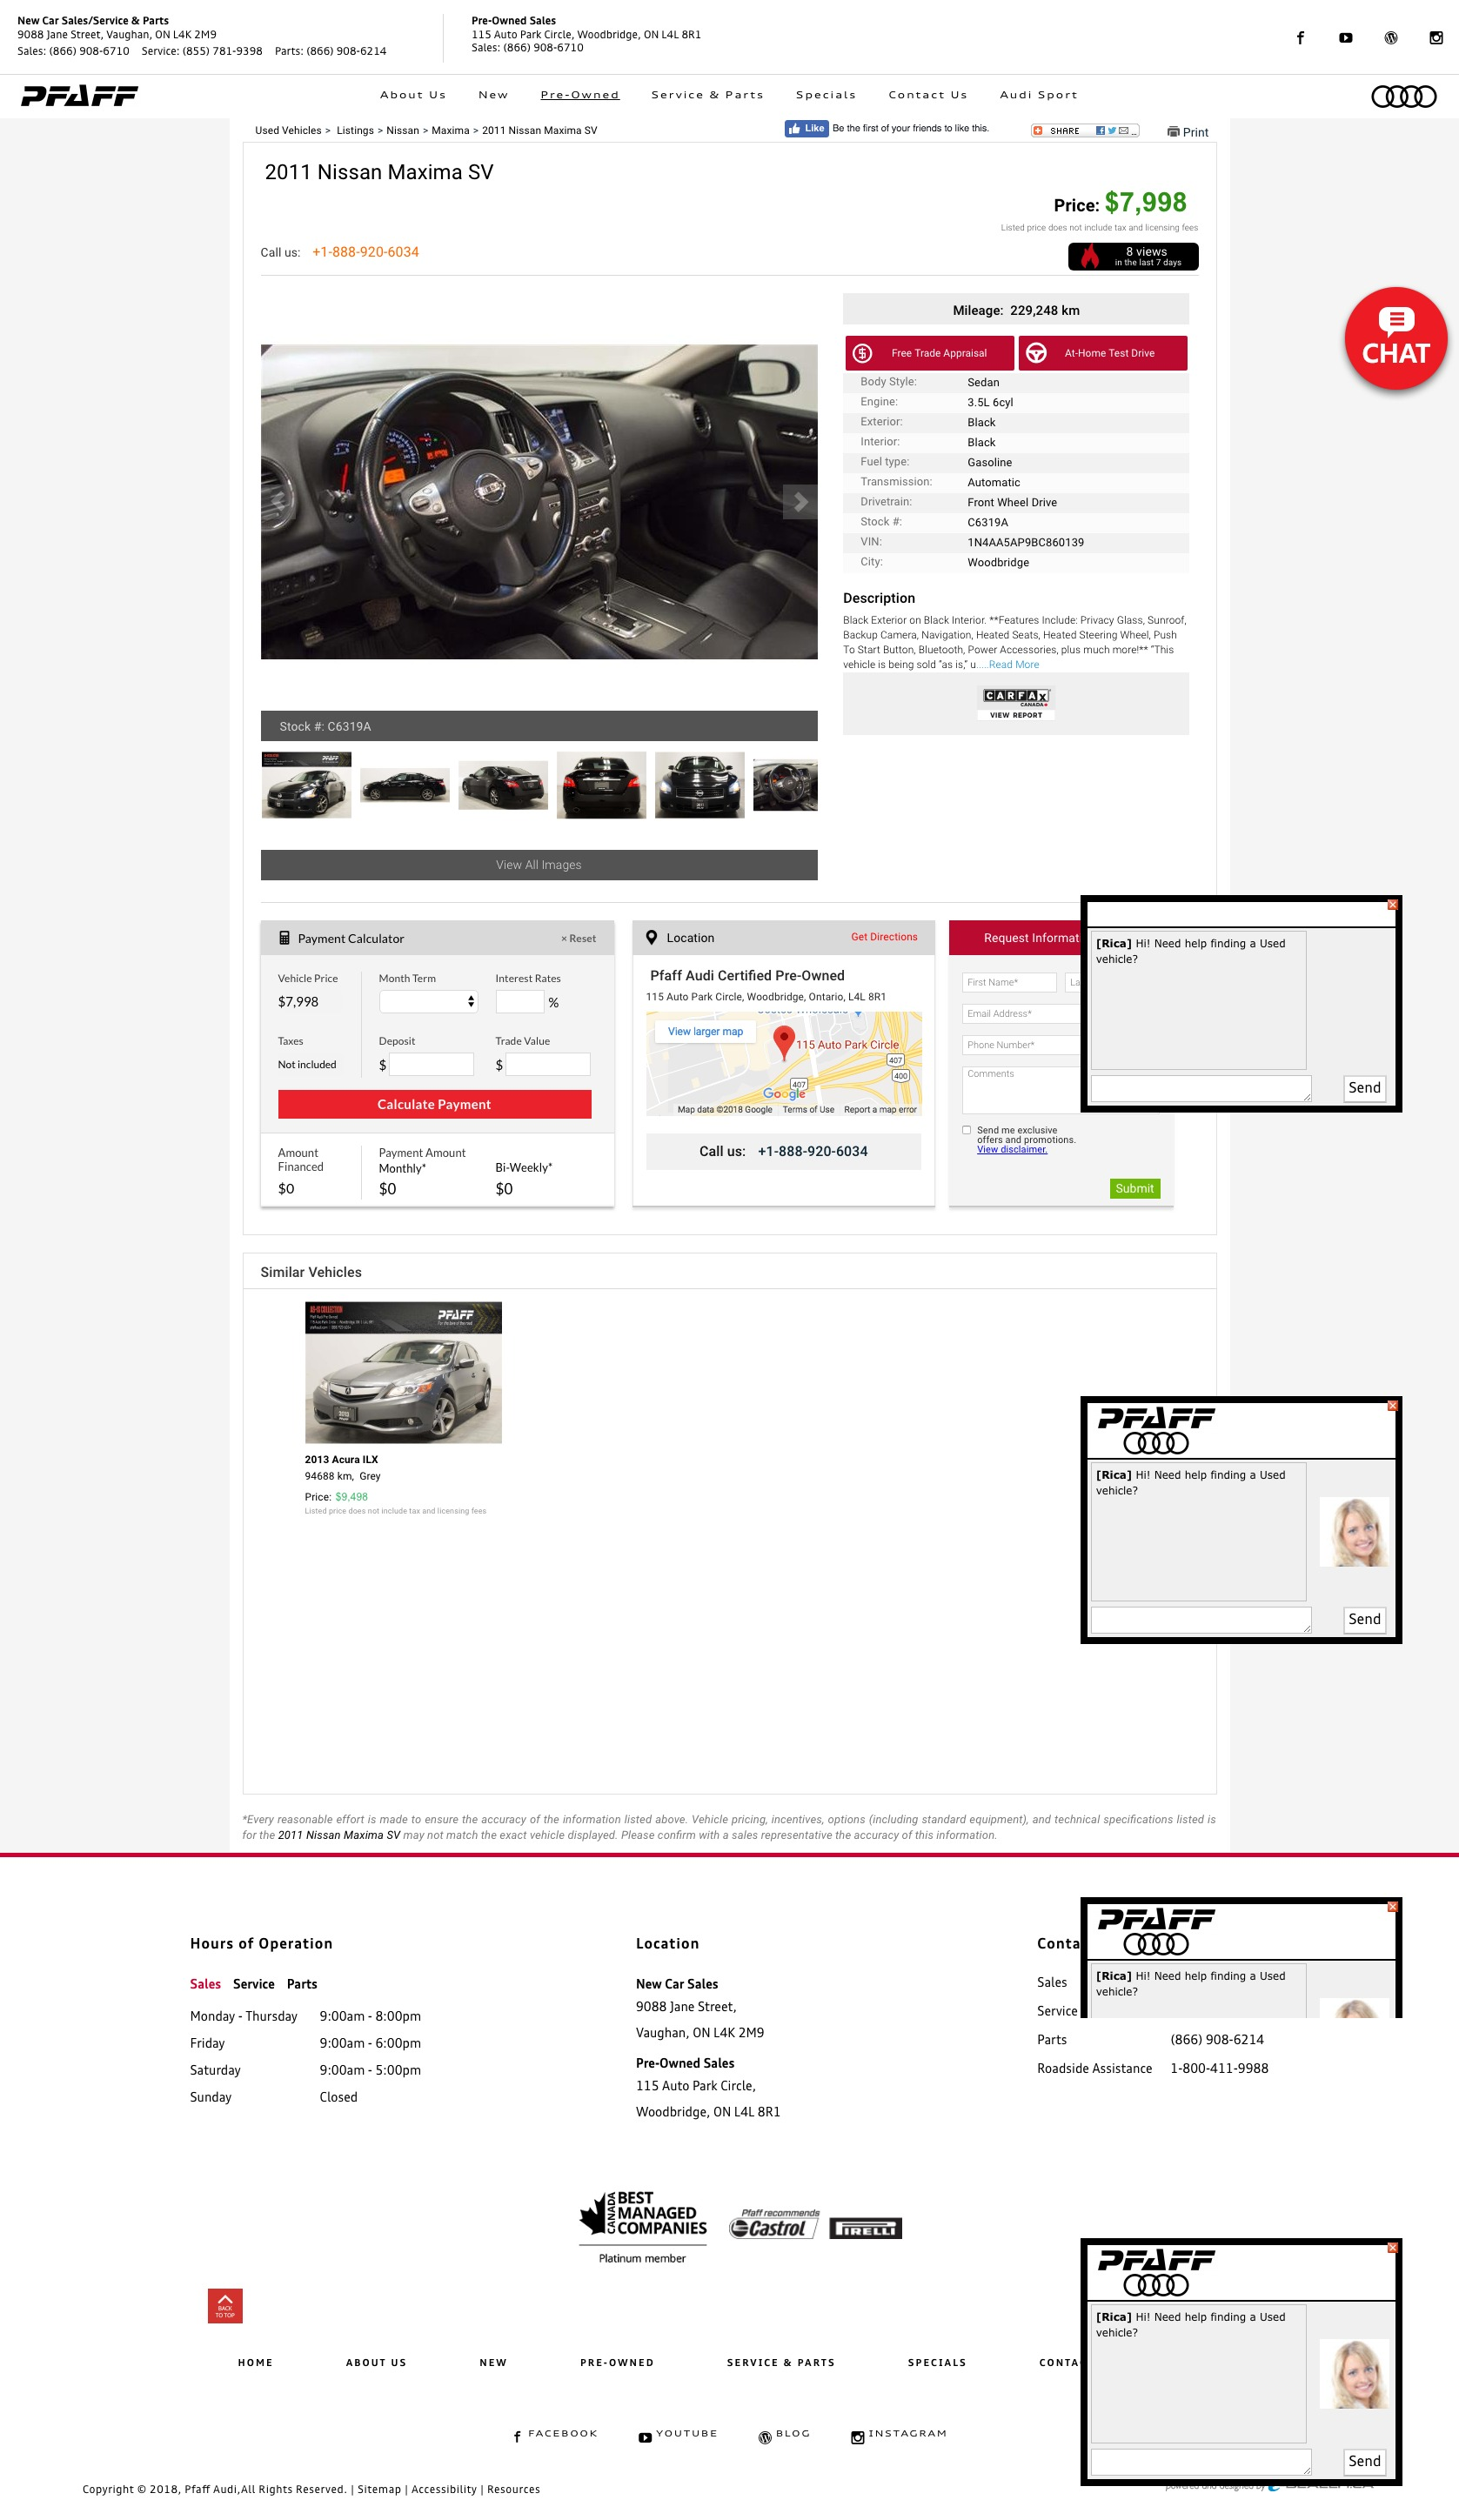car: (794, 491, 809, 514)
